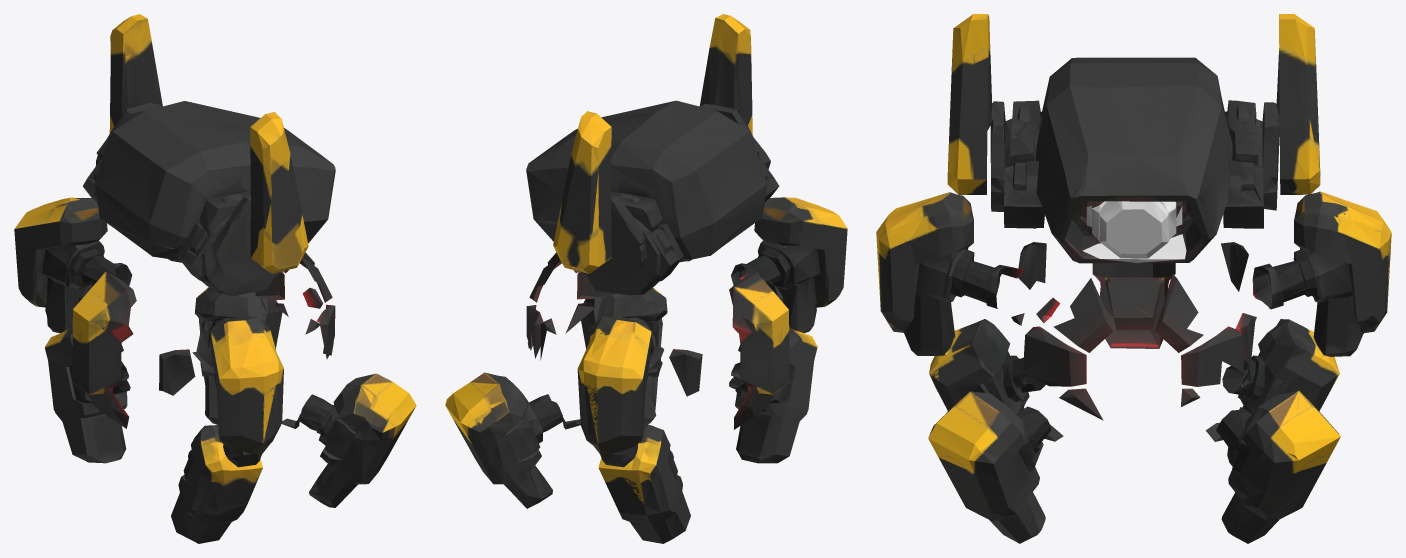
The model's file is kamikaze_meshy_game.fbx.
The picture shows the model from 3 angles, left to right: view 1: azimuth 30°, elevation 25°; view 2: azimuth 150°, elevation 25°; view 3: azimuth 270°, elevation 25°; orthographic projection. The views are drawn at different scales.
Visible parts, largest first — view 1: SM_Kamikaze_Meshy; view 2: SM_Kamikaze_Meshy; view 3: SM_Kamikaze_Meshy.
Part boxes in pixels (x1=…): SM_Kamikaze_Meshy: x1=14, y1=14, x2=416, y2=543; SM_Kamikaze_Meshy: x1=445, y1=14, x2=847, y2=543; SM_Kamikaze_Meshy: x1=876, y1=14, x2=1391, y2=543.
Bounding box in the file's own units: 127 × 194 × 188.
Materials: 2 (1 with a texture image).
